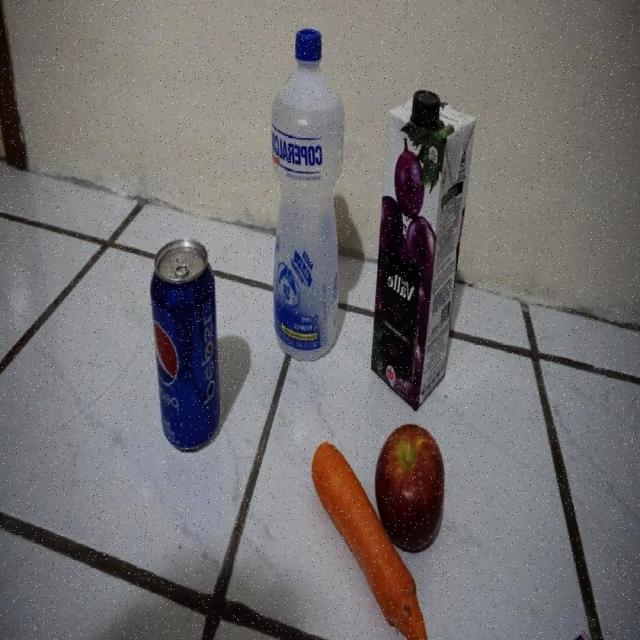AlcoholBottle: (269, 28, 346, 366)
Apple: (373, 422, 447, 558)
Carrot: (311, 440, 428, 640)
Gelatine: (563, 630, 604, 640)
SodaCan: (150, 238, 223, 458)
